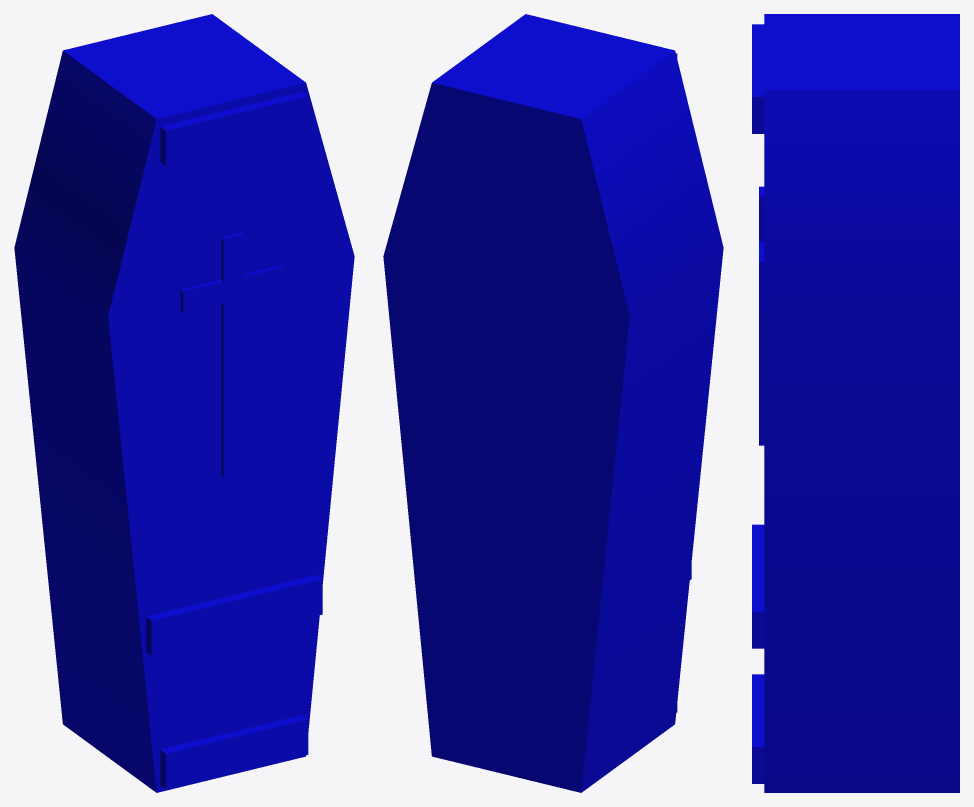
The model's file is coffin1.fbx.
3 views of the same model, side by side, from view 1: azimuth 30°, elevation 25°; view 2: azimuth 150°, elevation 25°; view 3: azimuth 270°, elevation 25° (orthographic). The views are drawn at different scales.
Parts seen in each view (by area): view 1: low3; view 2: low3; view 3: low3.
Boxes of the visible parts, x1,y1,x2,y2 form: low3: (14,14,354,792); low3: (383,14,723,792); low3: (752,14,959,792).
Bounding box in the file's own units: 77.9 × 204 × 54.55.
